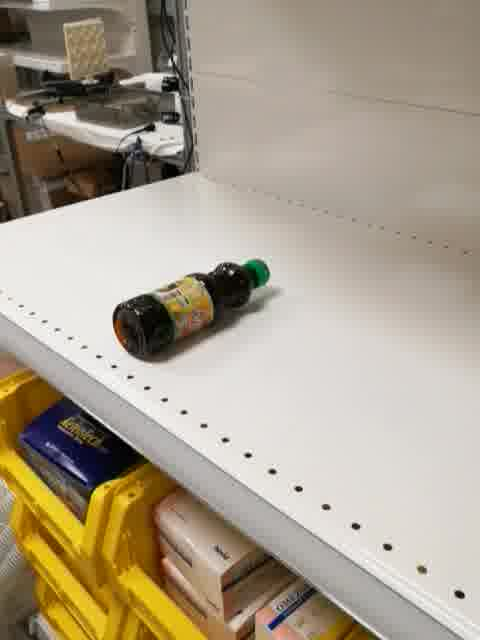cookingoil: (111, 256, 273, 361)
